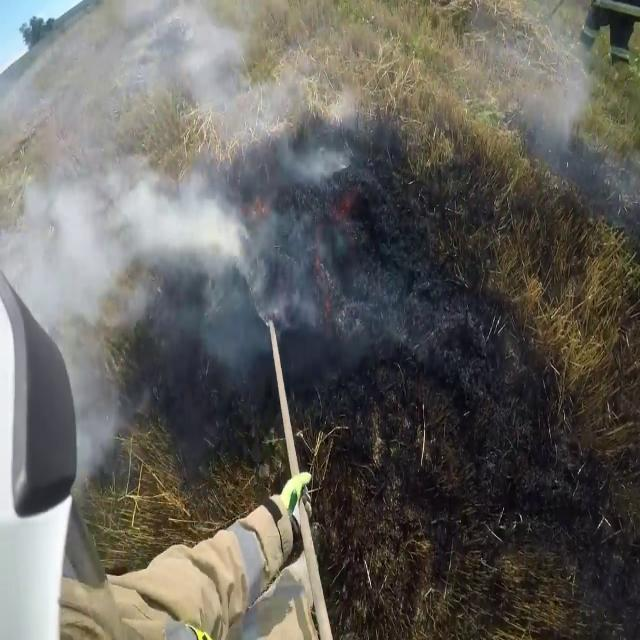Smoke: (21, 0, 379, 370), (496, 31, 598, 172)
